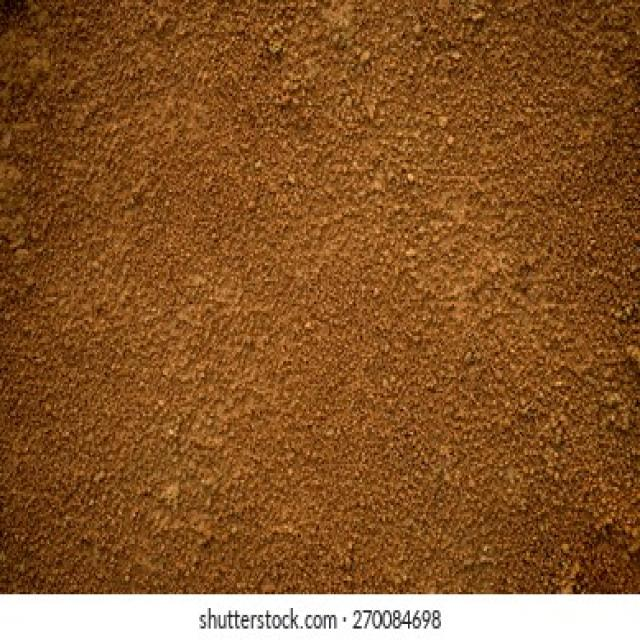Clay Soil: (38, 74, 571, 545)
